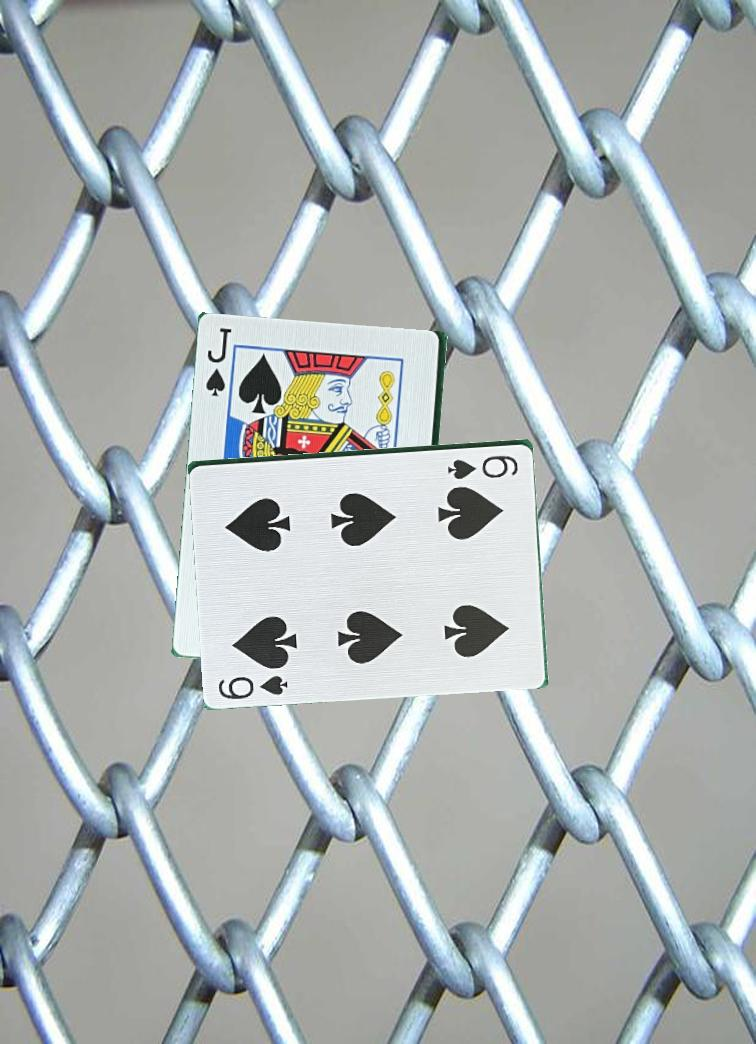6s: (215, 671, 296, 702), (443, 451, 522, 480)
js: (202, 324, 235, 400)
